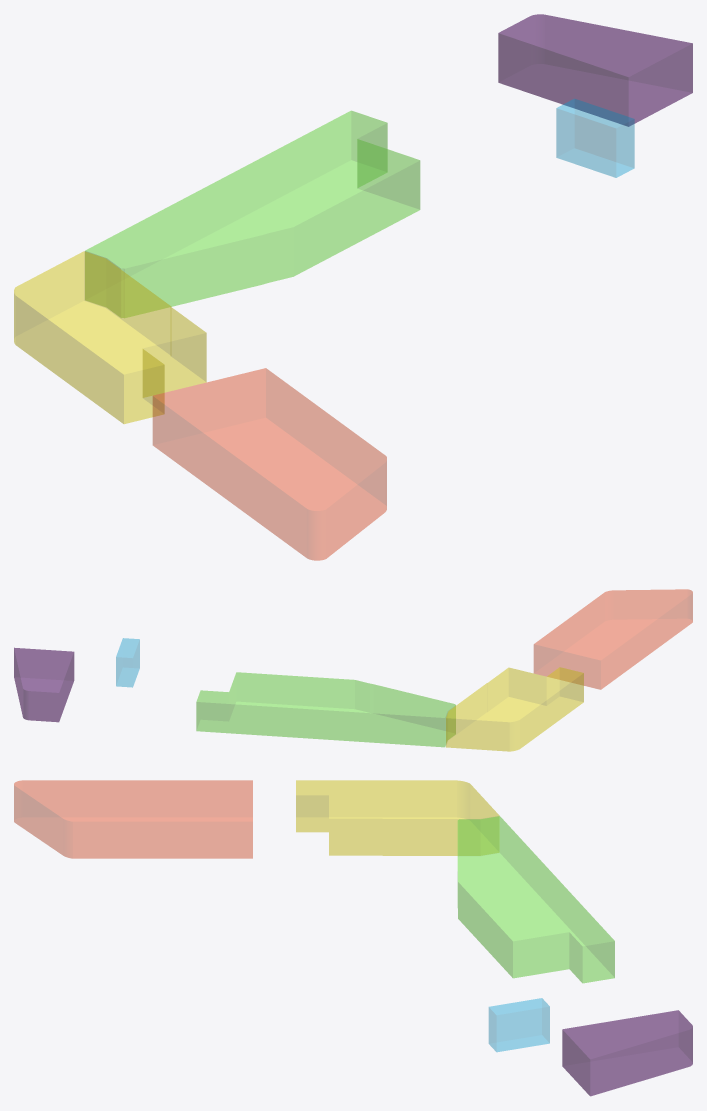
File: OPS level2 bubble.fbx
3 renders of one model, top to bottom at view 1: azimuth 30°, elevation 25°; view 2: azimuth 150°, elevation 25°; view 3: azimuth 270°, elevation 25°, orthographic. The views are drawn at different scales.
Parts seen in each view (by area): view 1: G_206_1, G_203_1, G_201_1, G_219_1, G_214_1; view 2: G_206_1, G_203_1, G_201_1, G_219_1, G_214_1; view 3: G_203_1, G_206_1, G_201_1, G_219_1, G_214_1.
Part boxes in pixels (left/top/right/bottom): G_206_1: left=85, top=110, right=420, bottom=317; G_203_1: left=153, top=368, right=386, bottom=560; G_201_1: left=14, top=251, right=206, bottom=423; G_219_1: left=498, top=14, right=692, bottom=126; G_214_1: left=556, top=99, right=634, bottom=177; G_206_1: left=196, top=672, right=455, bottom=747; G_203_1: left=534, top=589, right=692, bottom=689; G_201_1: left=446, top=667, right=583, bottom=751; G_219_1: left=14, top=647, right=74, bottom=722; G_214_1: left=116, top=638, right=139, bottom=687; G_203_1: left=14, top=780, right=252, bottom=858; G_206_1: left=457, top=816, right=614, bottom=983; G_201_1: left=296, top=780, right=499, bottom=855; G_219_1: left=562, top=1010, right=692, bottom=1096; G_214_1: left=489, top=998, right=549, bottom=1051.
Bounding box in the file's own units: 67870 × 4200 × 69783.
